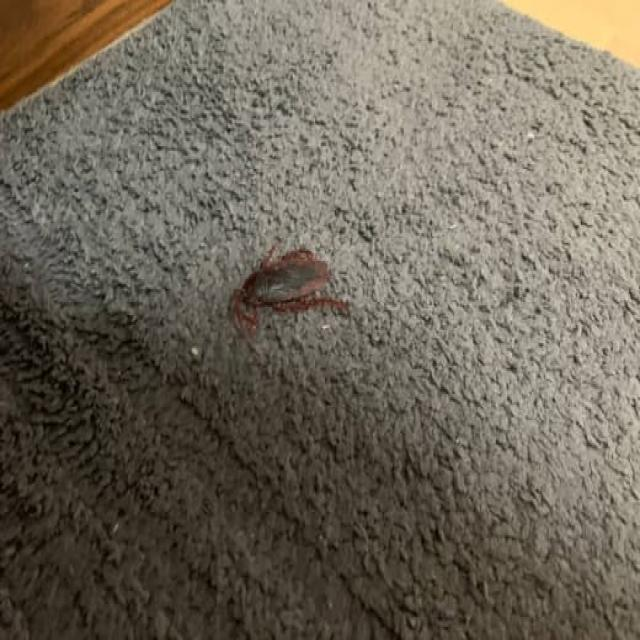Cockroach: (228, 240, 357, 336)
